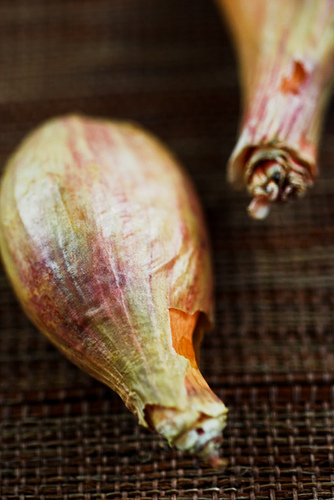onion: (0, 112, 232, 470), (227, 2, 332, 220)
